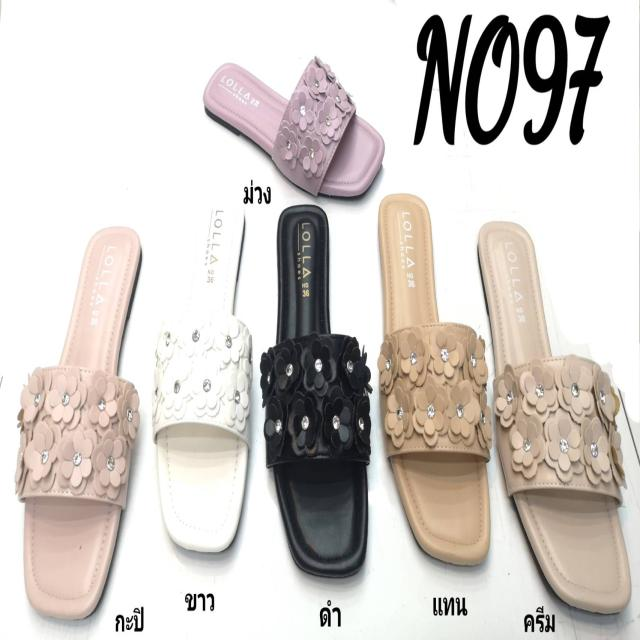black: (270, 202, 371, 566)
cream: (478, 224, 629, 618)
kapi: (23, 235, 138, 612)
purple: (207, 57, 382, 206)
tan: (378, 194, 487, 567)
white: (157, 203, 249, 561)
